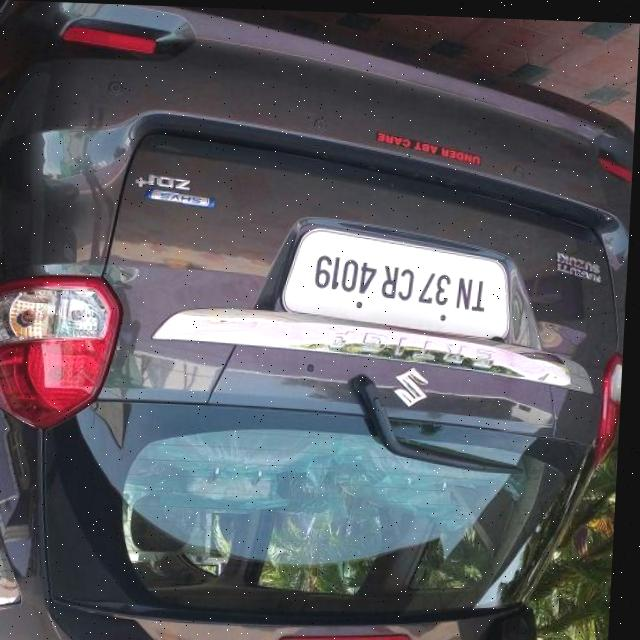plate: (281, 197, 514, 336)
